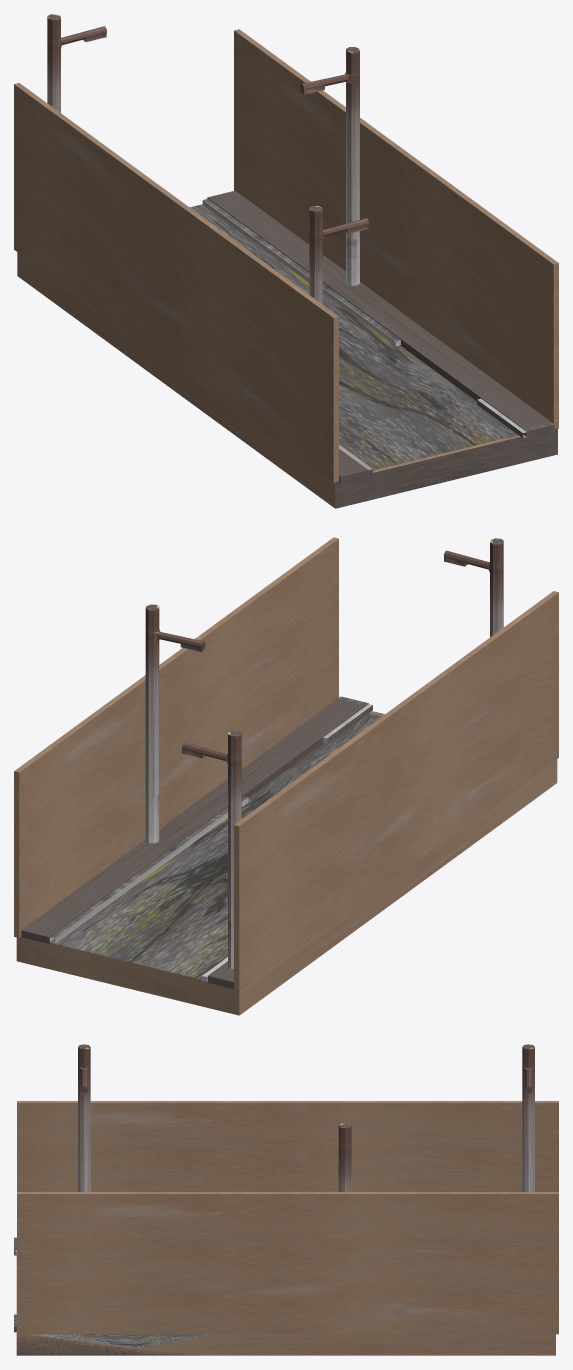
File: Hall_01_001.fbx
3 views of the same model, one above another, from view 1: azimuth 30°, elevation 25°; view 2: azimuth 150°, elevation 25°; view 3: azimuth 270°, elevation 25° (orthographic). The views are drawn at different scales.
Parts seen in each view (by area): view 1: Hall_01_001; view 2: Hall_01_001; view 3: Hall_01_001.
Part boxes in pixels (left/top/right/bottom): Hall_01_001: left=14, top=14, right=558, bottom=508; Hall_01_001: left=14, top=537, right=558, bottom=1015; Hall_01_001: left=14, top=1044, right=558, bottom=1355.
Size of the model in its own units: 1012 by 1140 by 2500.
